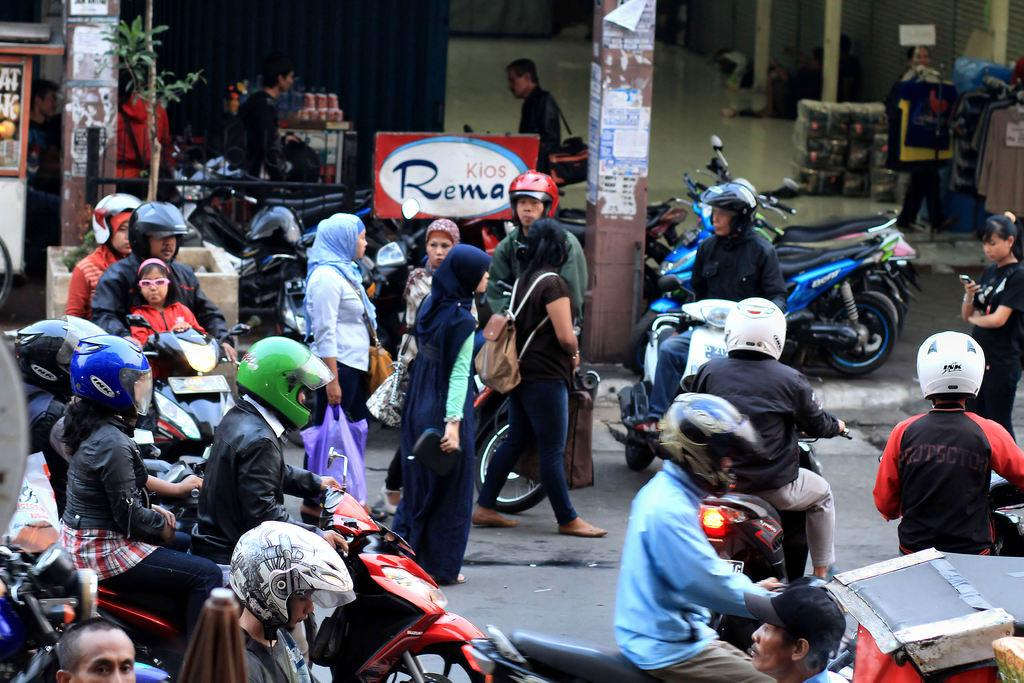helmet: (228, 520, 356, 628), (658, 392, 766, 499), (235, 336, 335, 432), (14, 318, 119, 396), (69, 334, 153, 420), (916, 330, 986, 403), (724, 297, 787, 362), (128, 201, 190, 260), (92, 193, 149, 253), (703, 183, 758, 236), (508, 171, 560, 227), (245, 205, 303, 247)
nohelmet: (743, 586, 846, 681), (318, 213, 369, 262), (526, 217, 569, 273), (977, 214, 1020, 264), (425, 218, 461, 271), (136, 258, 174, 306), (259, 51, 296, 94), (505, 58, 540, 100), (30, 79, 61, 119)
